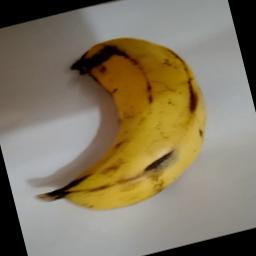Banana Unripe: (6, 24, 231, 230)
